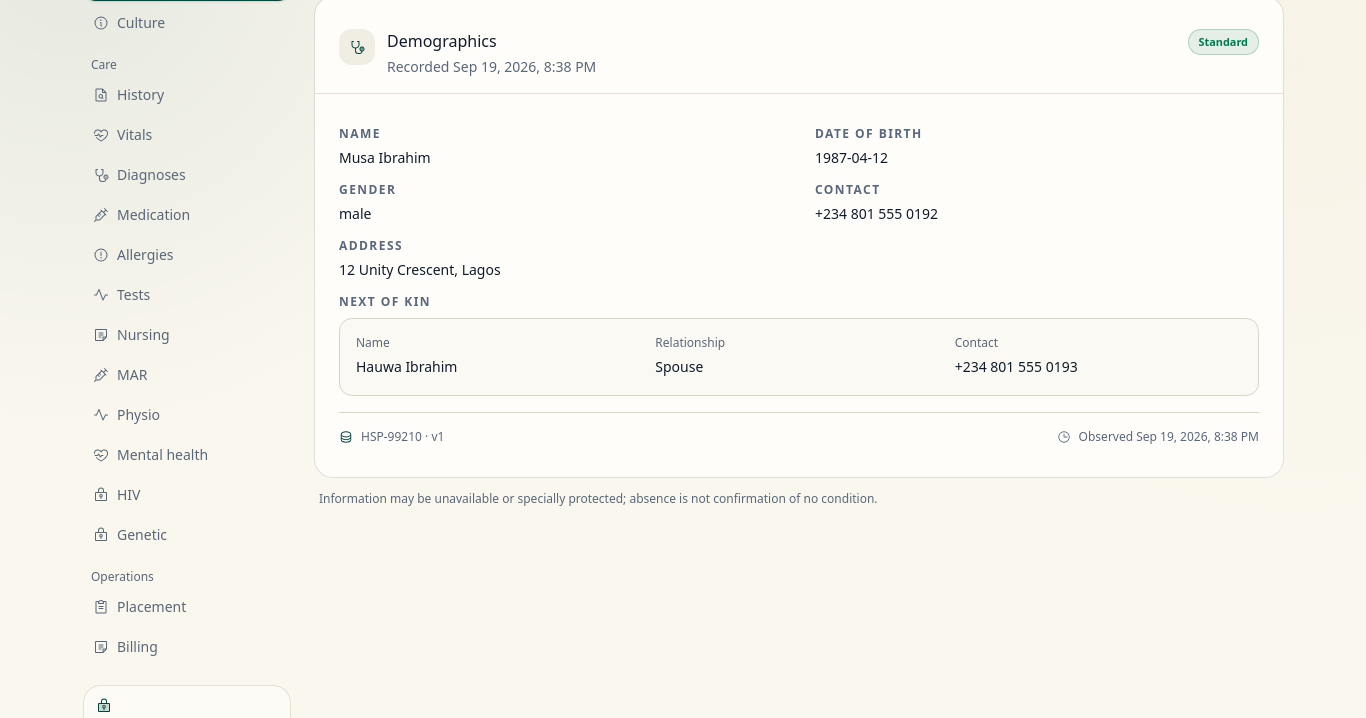
Test: protects an unsaved note when changing categories
The image size is (1366, 718).
(page scrolled)
Click the button "Nursing".
click(187, 335)  # box [83,317,291,353]
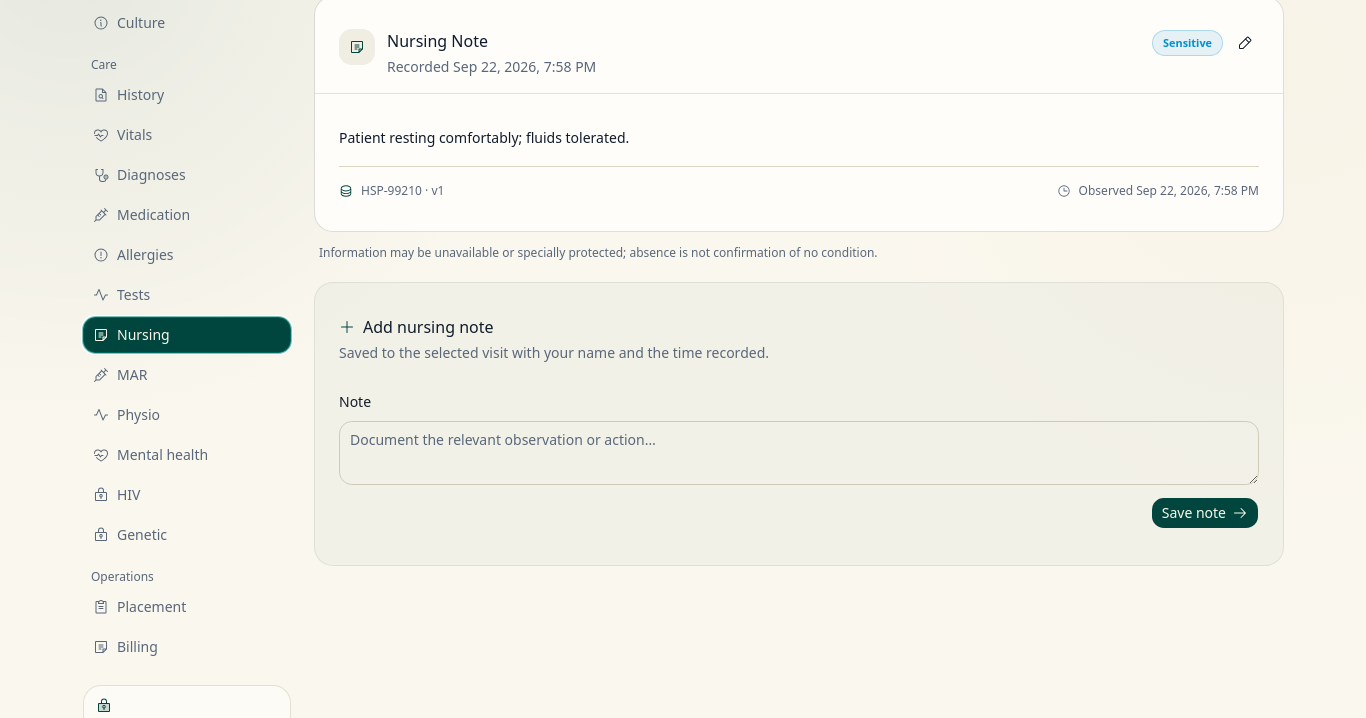
Type "This draft should stay with the selected patient visit." into the text box labelled "Note".
click(799, 453); type("This draft should stay with the selected patient visit.")  # box [339,421,1259,485]
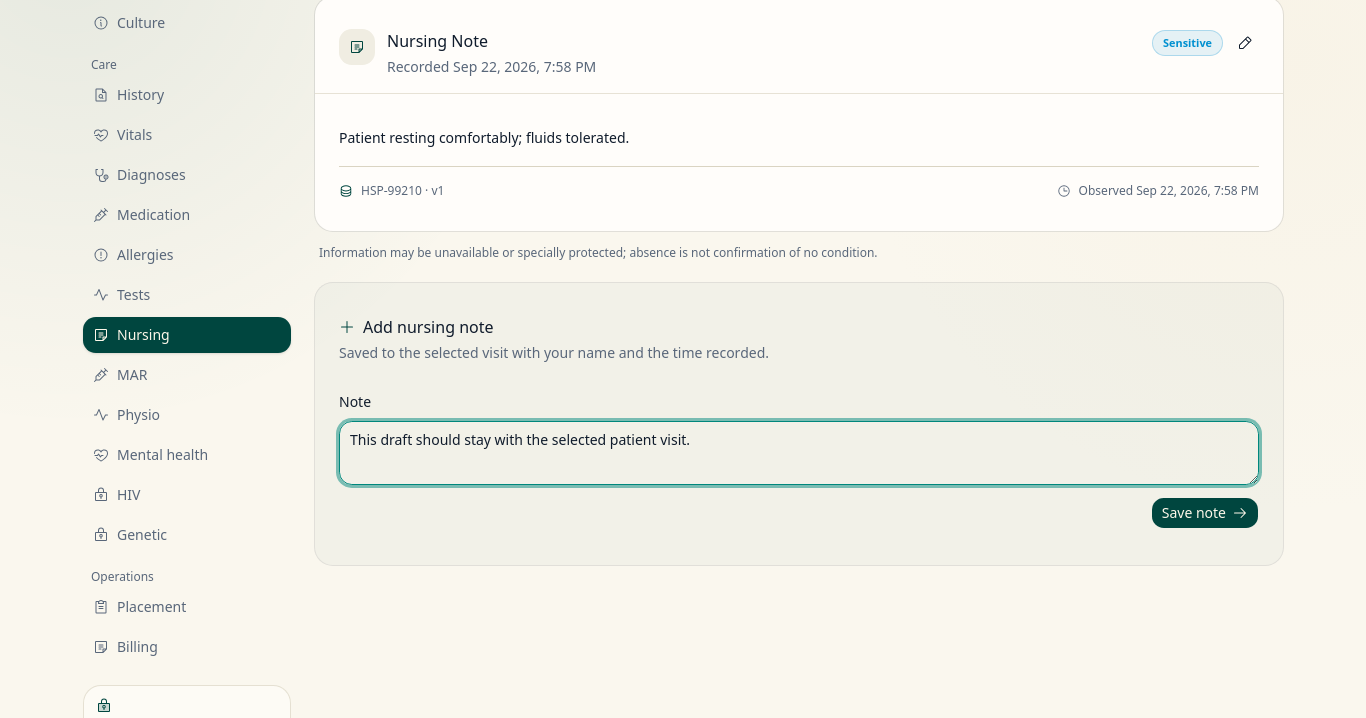
Click the button "Vitals".
click(187, 135)  # box [83,117,291,153]
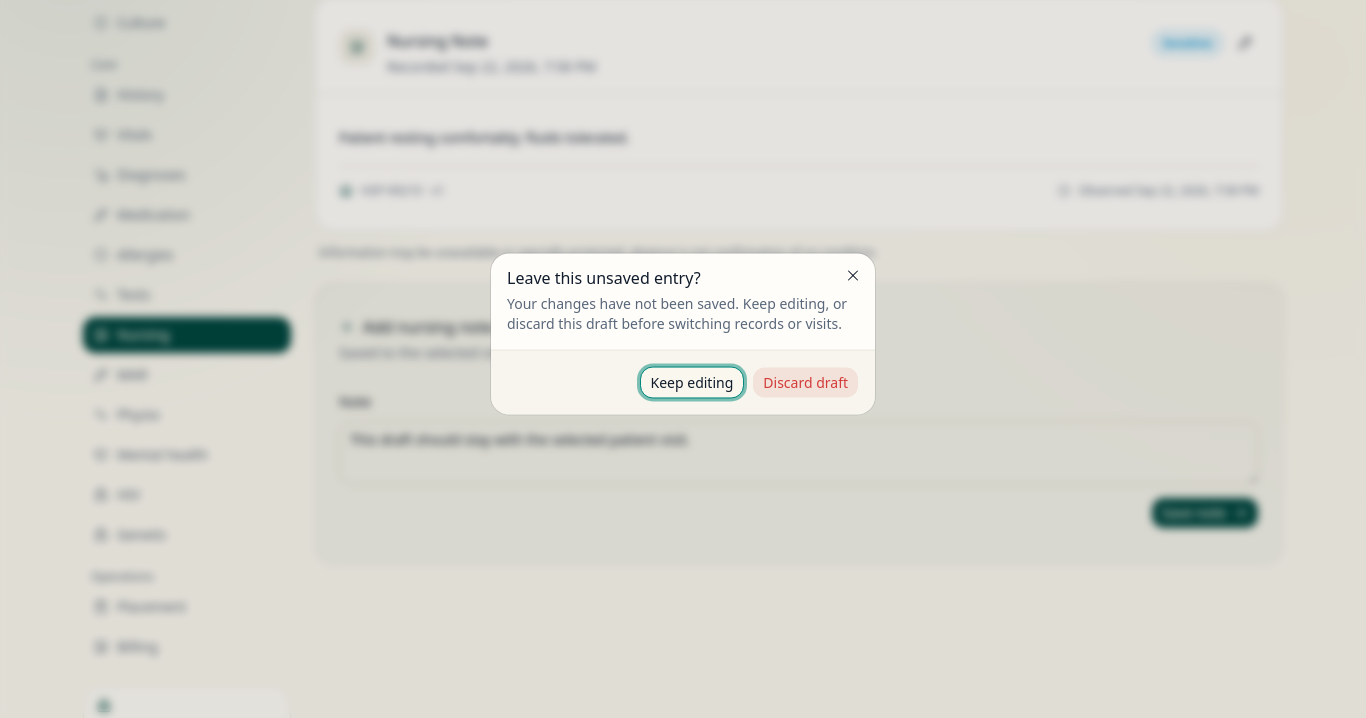
Expected: the dialog is shown, [491,254,875,414]
Click the button "Keep editing".
click(692, 382)  # box [640,366,744,398]
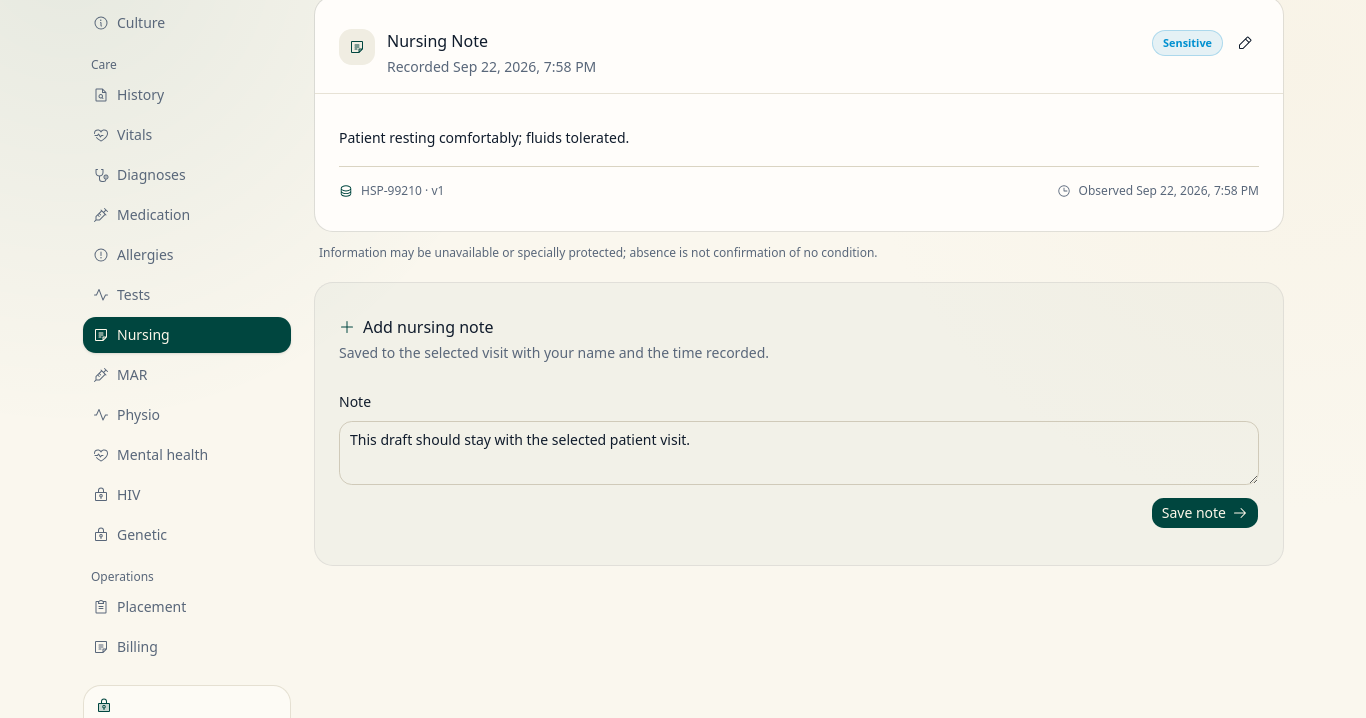
Click the button "Vitals".
click(187, 135)  # box [83,117,291,153]
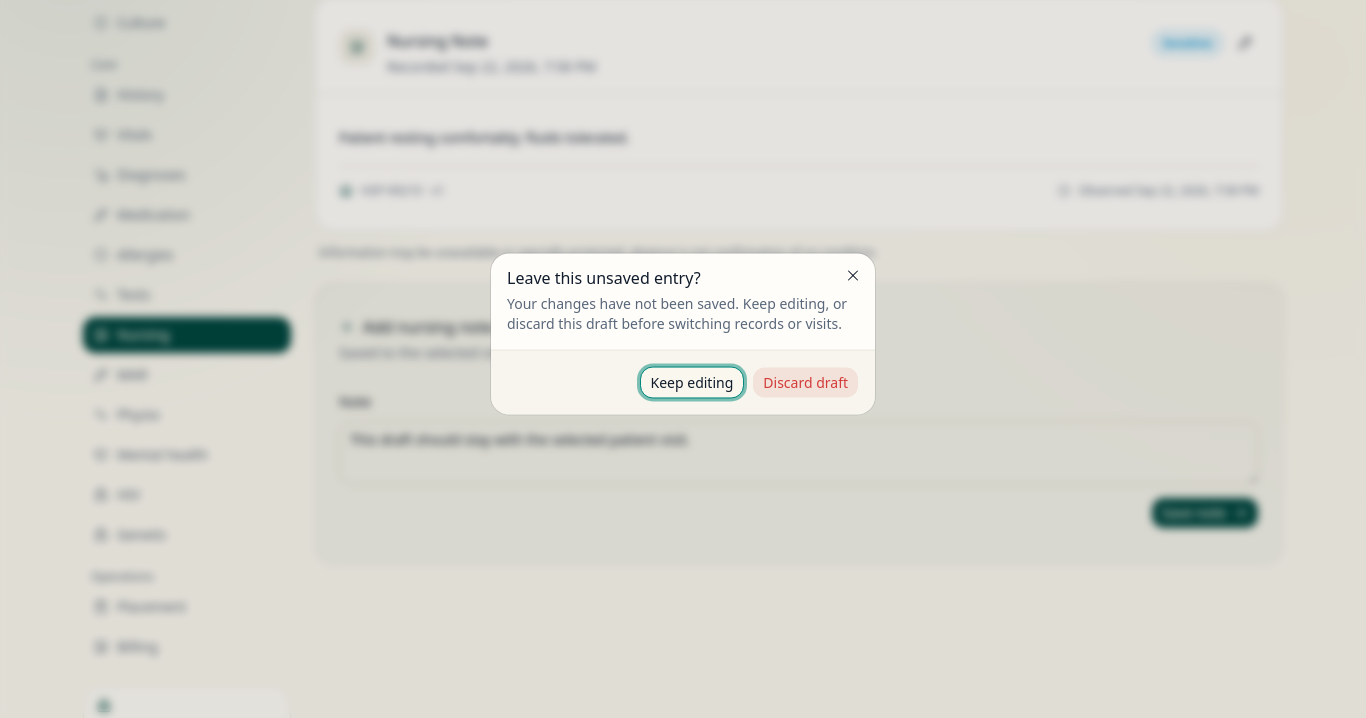
Click the button "Discard draft".
click(806, 382)  # box [752,366,859,398]
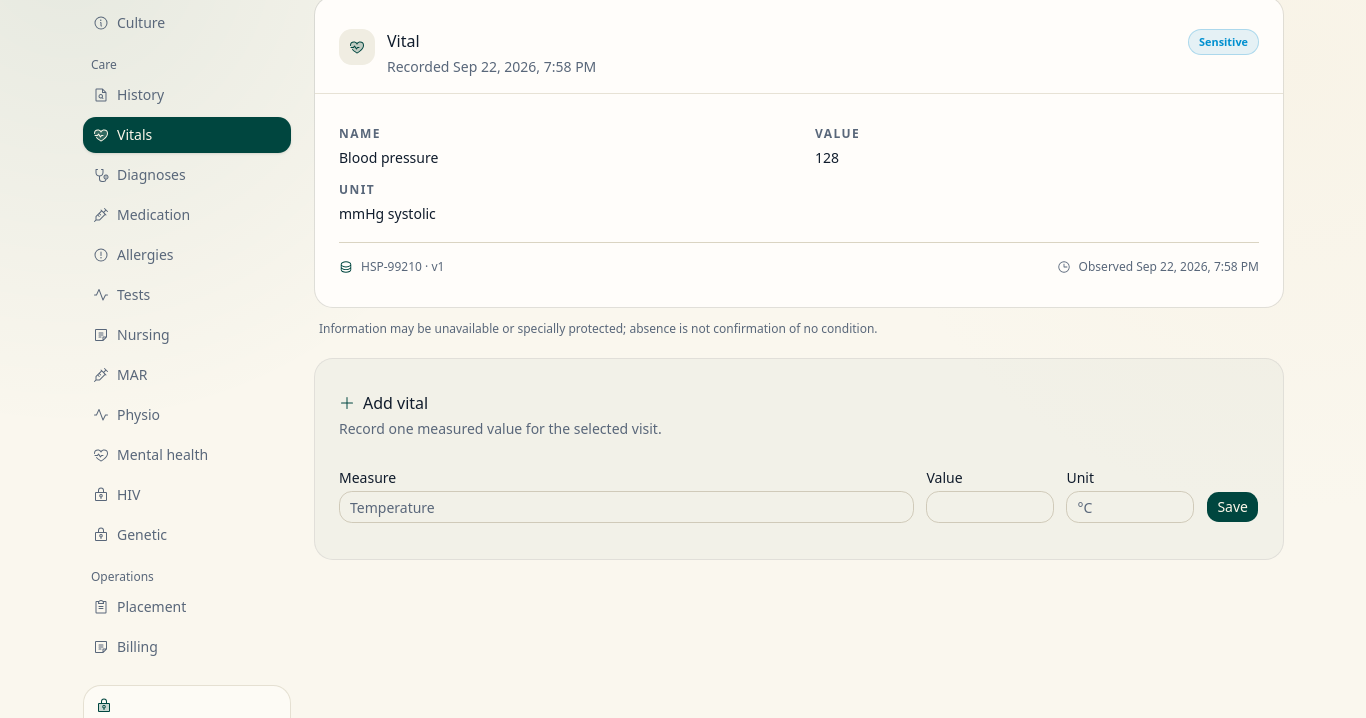
Expected: the text "Add vital" is shown, [339,392,428,414]
